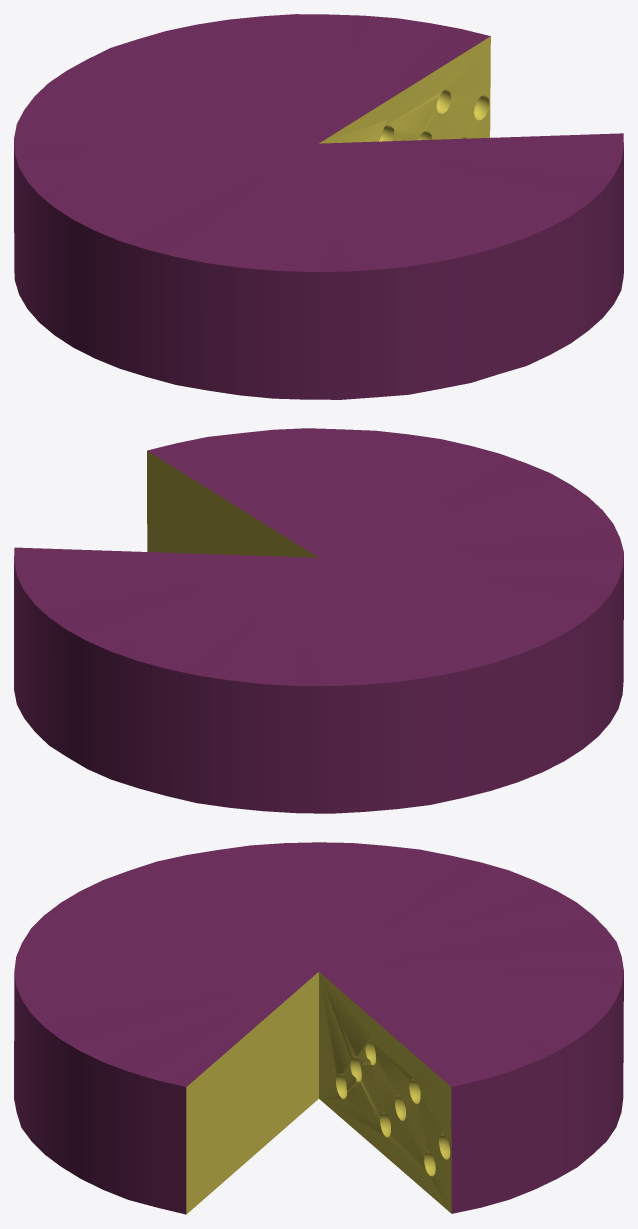
The picture shows the model from 3 angles, top to bottom: view 1: azimuth 30°, elevation 25°; view 2: azimuth 150°, elevation 25°; view 3: azimuth 270°, elevation 25°; orthographic projection.
Visible parts, largest first — view 1: TI048 / whole cheese wheel with removed wedge; view 2: TI048 / whole cheese wheel with removed wedge; view 3: TI048 / whole cheese wheel with removed wedge.
Part boxes in pixels (left/top/right/bottom): TI048 / whole cheese wheel with removed wedge: left=14, top=14, right=623, bottom=399; TI048 / whole cheese wheel with removed wedge: left=14, top=428, right=623, bottom=813; TI048 / whole cheese wheel with removed wedge: left=14, top=842, right=623, bottom=1214.
Size of the model in its own units: 2.47 by 0.6048 by 2.6.
